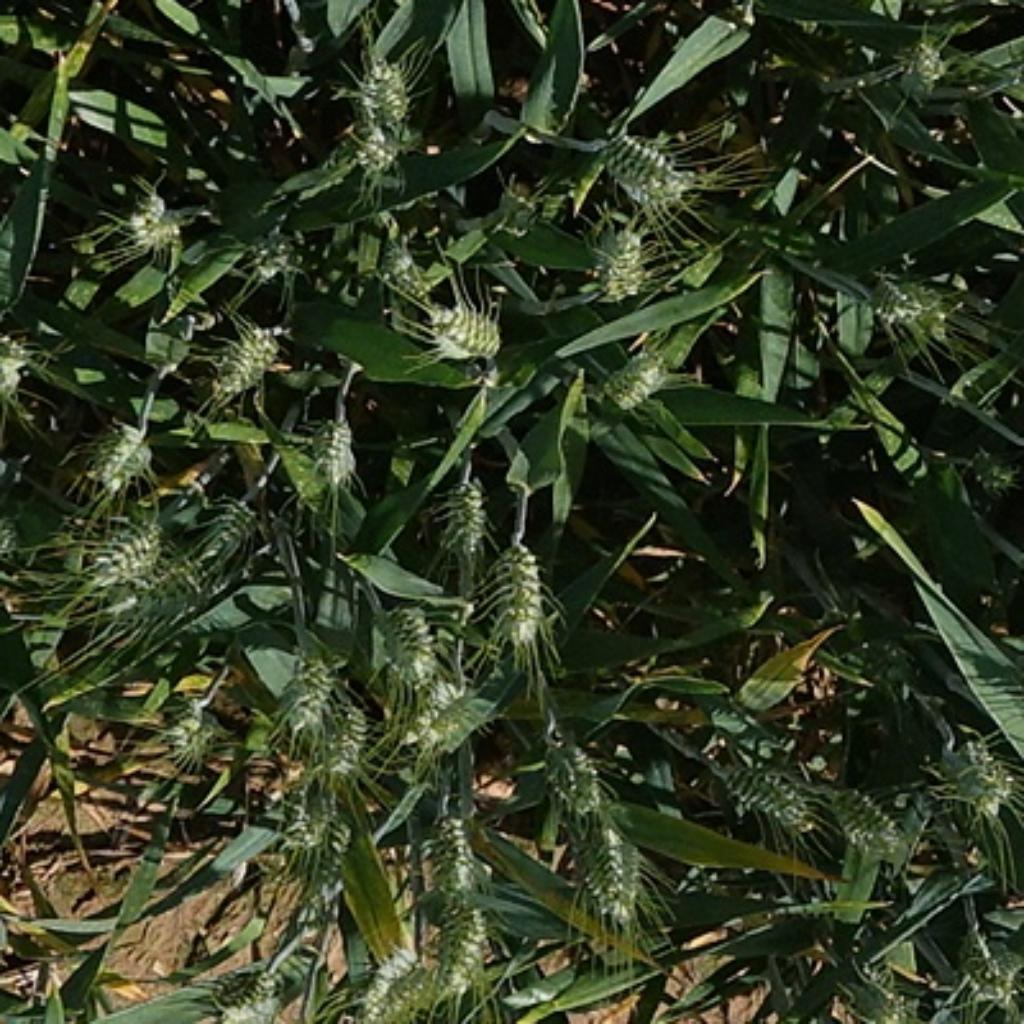0-0: (560, 796, 652, 924), (279, 634, 358, 778), (337, 38, 419, 176), (99, 547, 225, 634), (706, 742, 816, 834), (478, 527, 558, 652), (588, 117, 693, 209), (273, 747, 360, 855), (64, 519, 179, 596), (422, 883, 499, 998), (919, 724, 1016, 814), (862, 261, 965, 343), (355, 593, 445, 686), (401, 670, 491, 760), (535, 724, 616, 824), (591, 332, 686, 417), (345, 230, 445, 309), (286, 404, 363, 499), (821, 775, 906, 860), (204, 314, 286, 401), (417, 803, 488, 901), (353, 936, 432, 1018), (417, 294, 506, 366), (952, 919, 1024, 1006), (222, 220, 304, 296), (79, 412, 156, 491), (427, 468, 496, 555), (158, 680, 227, 765), (583, 220, 657, 299), (199, 494, 276, 568), (828, 960, 919, 1022), (202, 957, 281, 1024), (115, 186, 189, 256), (314, 696, 373, 778), (957, 442, 1017, 504), (890, 33, 947, 92), (0, 331, 32, 409)
